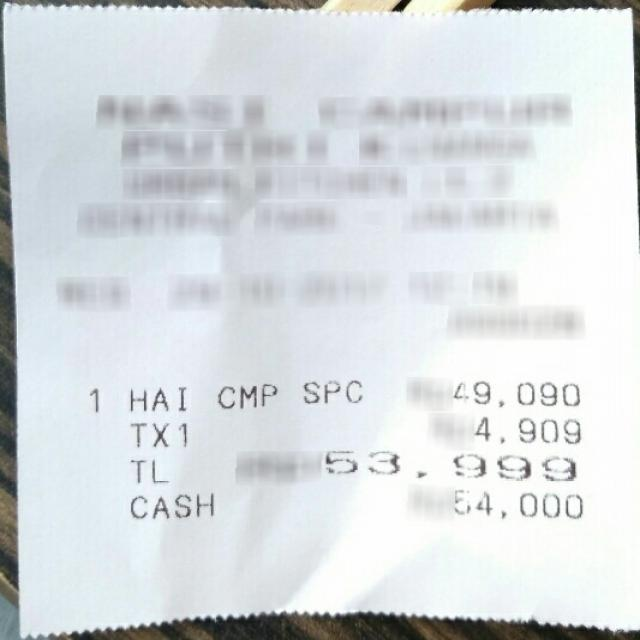text: (311, 446, 575, 478), (454, 489, 581, 518), (452, 378, 576, 404), (473, 416, 579, 442), (130, 491, 211, 517), (300, 374, 362, 406), (214, 380, 274, 408), (130, 420, 185, 448), (128, 386, 184, 410), (128, 459, 166, 480), (89, 387, 100, 415)
